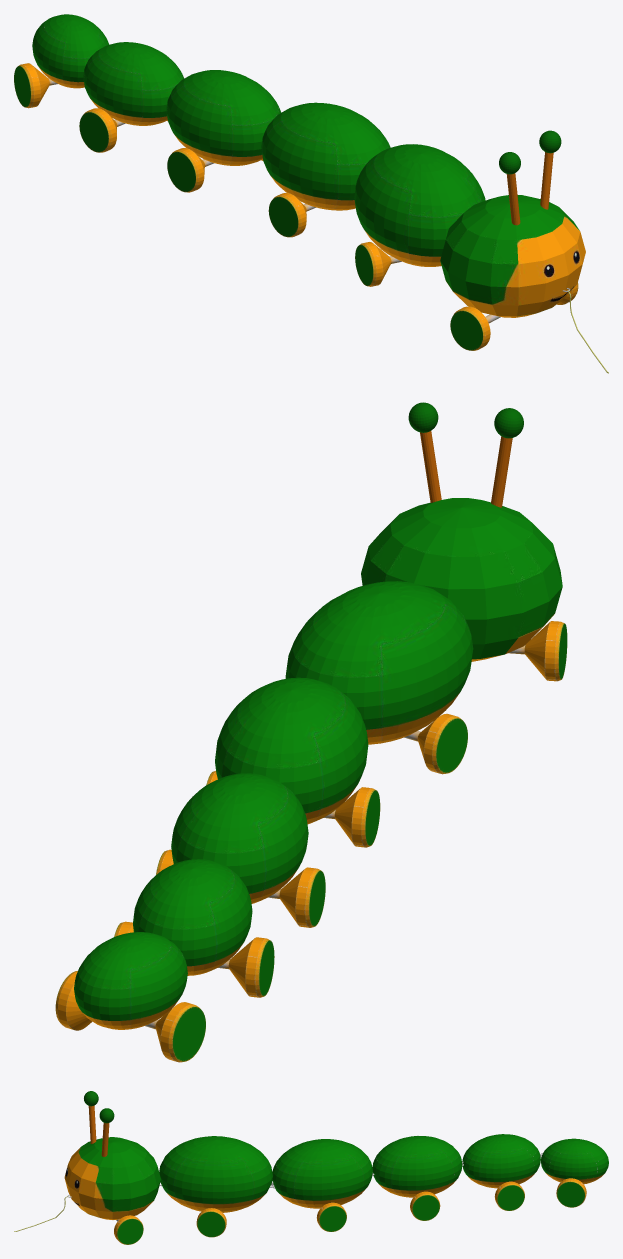
File: 3Z38YBZJGI37GLV67ZYP7RNY1.fbx
The picture shows the model from 3 angles, top to bottom: view 1: azimuth 30°, elevation 25°; view 2: azimuth 150°, elevation 25°; view 3: azimuth 270°, elevation 25°; orthographic projection. The views are drawn at different scales.
Parts seen in each view (by area): view 1: Object_Chenille_mtl1_diffcol.jpg (×5), Object_Chenille_mtl24_diffcol.jpg, Object_Chenille_mtl5_diffcol.jpg (×5), mat_8-Chenille_mtl5_diffcol.jpg, Object_color_0.800000-0.401569-0.000000.jpg; view 2: Object_Chenille_mtl1_diffcol.jpg (×5), Object_Chenille_mtl24_diffcol.jpg, Object_Chenille_mtl5_diffcol.jpg (×5), mat_8-Chenille_mtl5_diffcol.jpg, Object_color_0.800000-0.401569-0.000000.jpg; view 3: Object_Chenille_mtl1_diffcol.jpg (×5), Object_Chenille_mtl24_diffcol.jpg, Object_Chenille_mtl5_diffcol.jpg (×5), mat_8-Chenille_mtl5_diffcol.jpg, Object_color_0.800000-0.401569-0.000000.jpg.
Part boxes in pixels (box(x1,y1,x2,y2)): Object_Chenille_mtl1_diffcol.jpg (×5): box(32, 14, 485, 266); Object_Chenille_mtl24_diffcol.jpg: box(440, 195, 585, 317); Object_Chenille_mtl5_diffcol.jpg (×5): box(14, 63, 578, 350); mat_8-Chenille_mtl5_diffcol.jpg: box(167, 148, 263, 192); Object_color_0.800000-0.401569-0.000000.jpg: box(540, 152, 553, 209); Object_Chenille_mtl1_diffcol.jpg (×5): box(74, 581, 473, 1029); Object_Chenille_mtl24_diffcol.jpg: box(361, 498, 562, 661); Object_Chenille_mtl5_diffcol.jpg (×5): box(55, 621, 567, 1062); mat_8-Chenille_mtl5_diffcol.jpg: box(156, 849, 325, 927); Object_color_0.800000-0.401569-0.000000.jpg: box(420, 431, 441, 502); Object_Chenille_mtl1_diffcol.jpg (×5): box(159, 1134, 608, 1212); Object_Chenille_mtl24_diffcol.jpg: box(64, 1137, 160, 1219); Object_Chenille_mtl5_diffcol.jpg (×5): box(114, 1178, 586, 1244); mat_8-Chenille_mtl5_diffcol.jpg: box(410, 1191, 440, 1220); Object_color_0.800000-0.401569-0.000000.jpg: box(88, 1105, 96, 1144).
Size of the model in its own units: 0.6996 by 0.5894 by 2.5.
